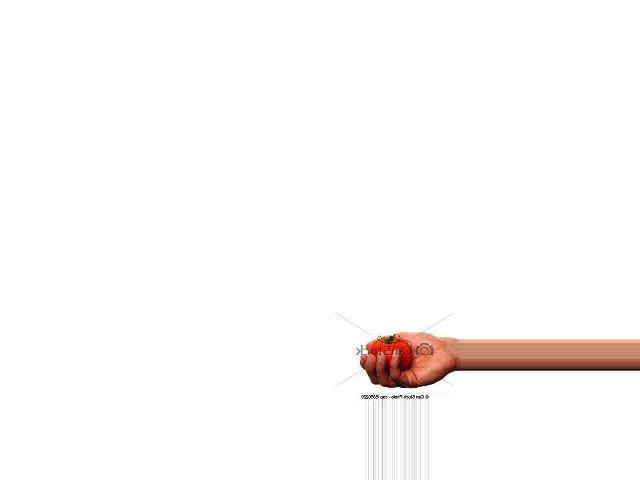tomato: (368, 337, 409, 373)
